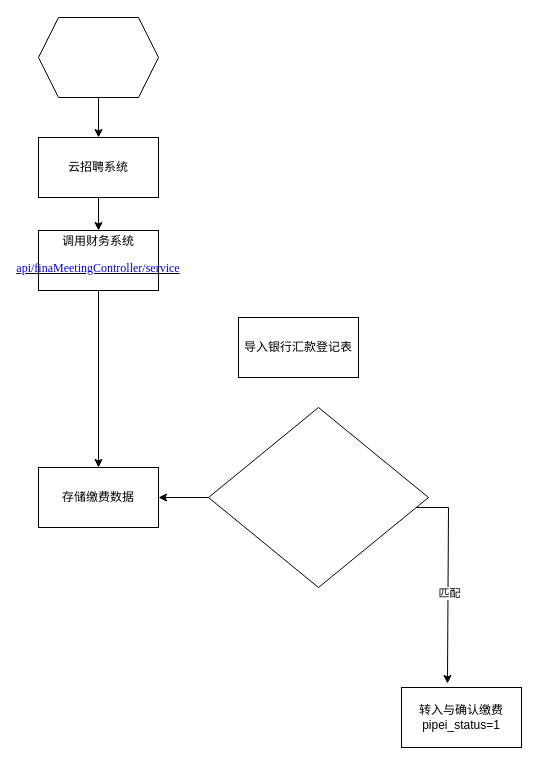
Image size: 539x765. Some labels were removed from this diagram. The shapes that lost their labels are listed below. From the top down, each one's centre as x and y in pixels, then its label:
(x=98, y=57): 开始
(x=318, y=497): 是否匹配 表：uf_meeting 字段： REMITTANCE_UNIT TRADE_AMOUNT
